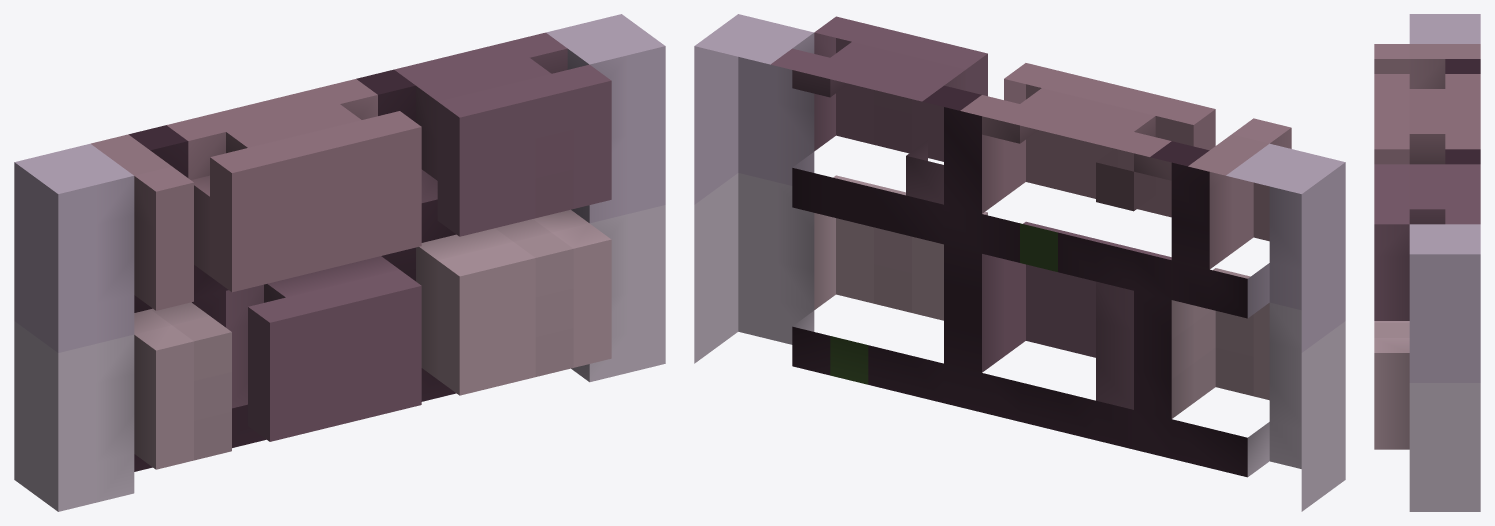
Rendered from wall_plain_0.glb.
The picture shows the model from 3 angles, left to right: view 1: azimuth 30°, elevation 25°; view 2: azimuth 150°, elevation 25°; view 3: azimuth 270°, elevation 25°; orthographic projection. The views are drawn at different scales.
Visible parts, largest first — view 1: wall_plain_0; view 2: wall_plain_0; view 3: wall_plain_0.
Boxes of the visible parts, x1,y1,x2,y2 form: wall_plain_0: (14, 14, 665, 511); wall_plain_0: (694, 14, 1345, 511); wall_plain_0: (1374, 14, 1480, 511).
Bounding box in the file's own units: 1 × 0.5 × 0.1875.
